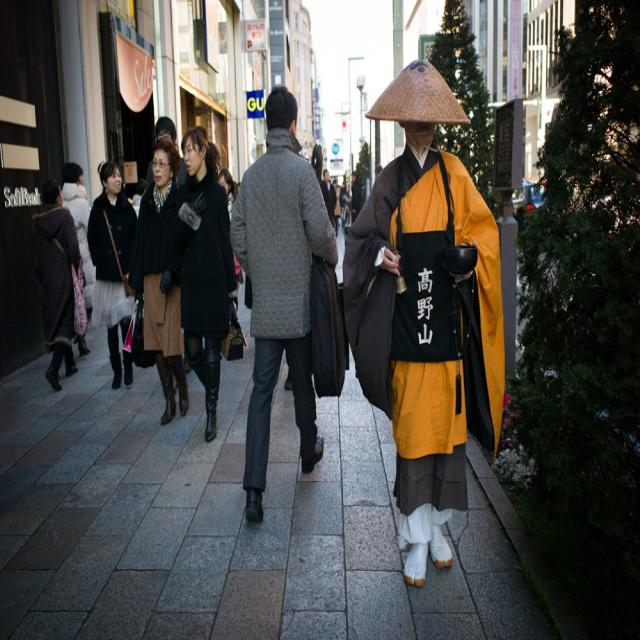body: (340, 55, 507, 588), (230, 80, 350, 527), (160, 126, 238, 446), (132, 138, 194, 430), (29, 170, 89, 396), (86, 155, 143, 392), (58, 160, 97, 359), (148, 113, 189, 178), (219, 161, 242, 228), (320, 167, 338, 231), (332, 178, 343, 238), (350, 170, 362, 223), (130, 181, 146, 216), (341, 171, 348, 231), (371, 161, 385, 180)
